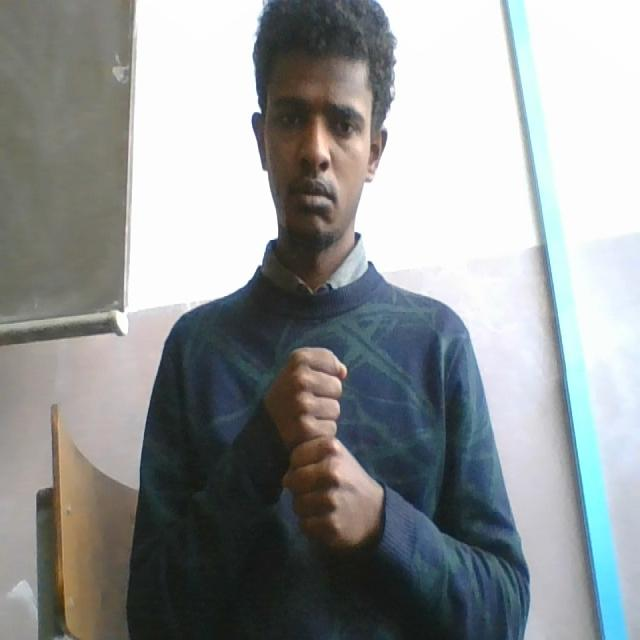meqebel: (268, 341, 368, 550)
